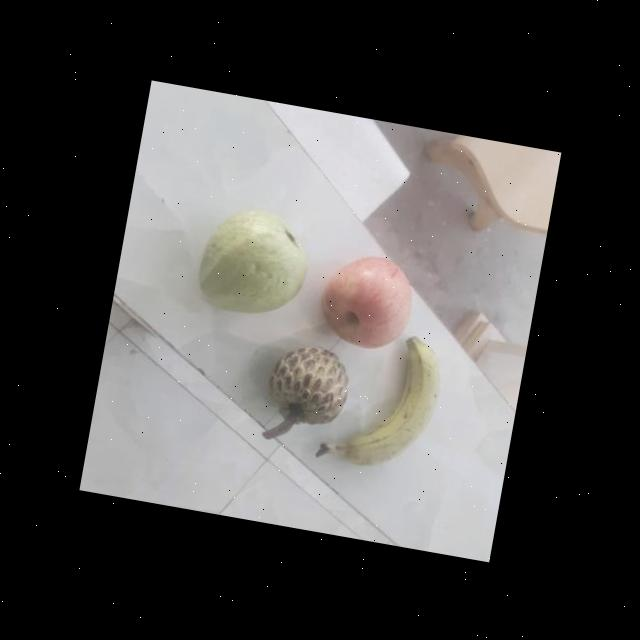Sakya fruit: (261, 334, 356, 437)
apple: (316, 244, 420, 355)
banana: (324, 316, 445, 482)
guava: (192, 196, 313, 320)
